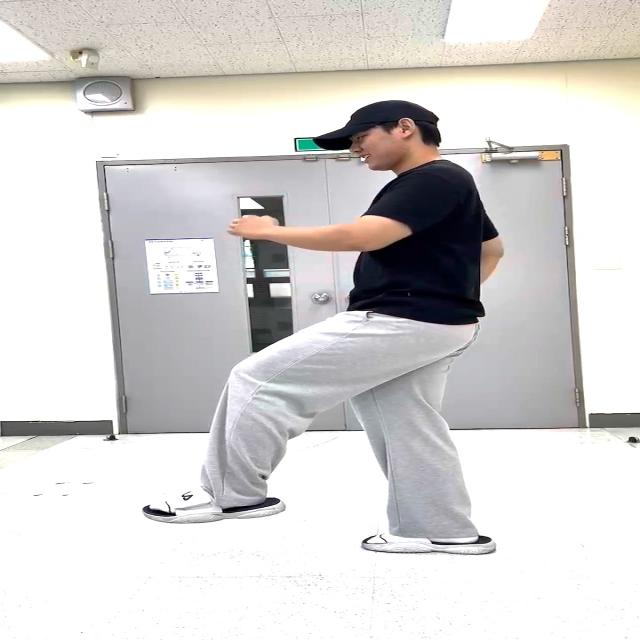leg: (136, 319, 353, 538)
